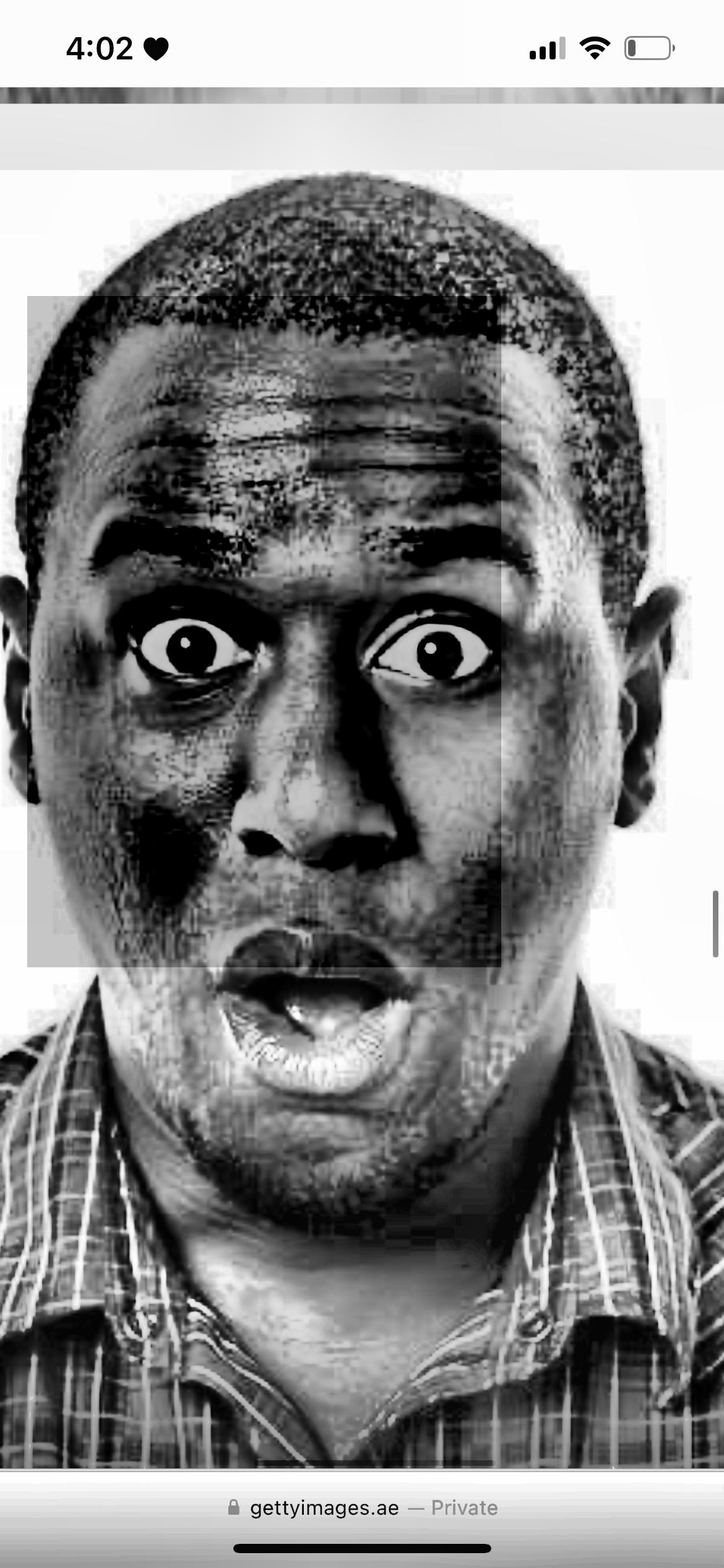surprised: (34, 366, 620, 1196)
